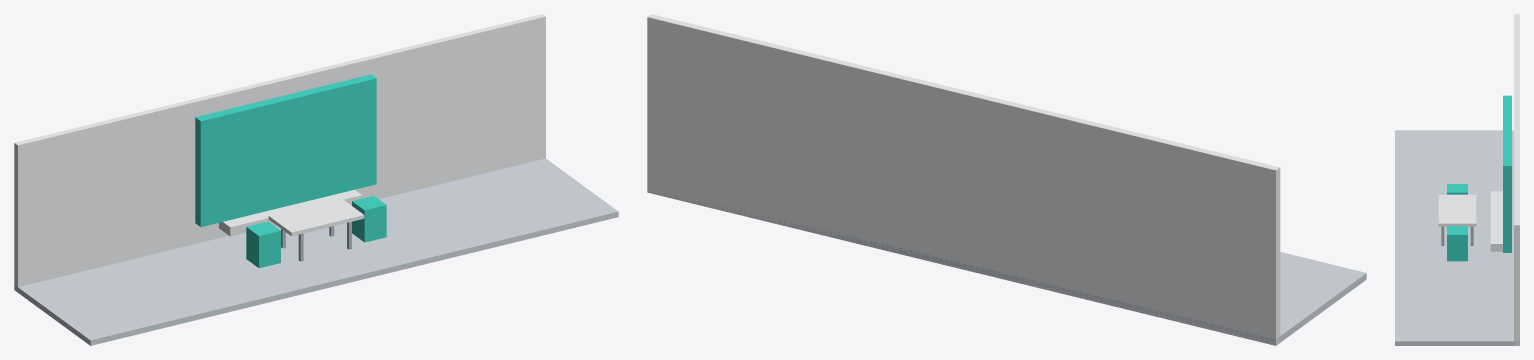
3 renders of one model, left to right at view 1: azimuth 30°, elevation 25°; view 2: azimuth 150°, elevation 25°; view 3: azimuth 270°, elevation 25°, orthographic. The views are drawn at different scales.
Parts seen in each view (by area): view 1: Exhibition Booth Concept; view 2: Exhibition Booth Concept; view 3: Exhibition Booth Concept.
Part boxes in pixels (x1,y1,x2,y2): Exhibition Booth Concept: [14, 14, 618, 345]; Exhibition Booth Concept: [647, 14, 1366, 345]; Exhibition Booth Concept: [1395, 14, 1519, 345].
Size of the model in its own units: 12 by 3.2 by 3.
